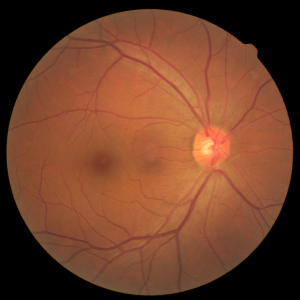healthy_eye: (39, 89, 263, 200)
